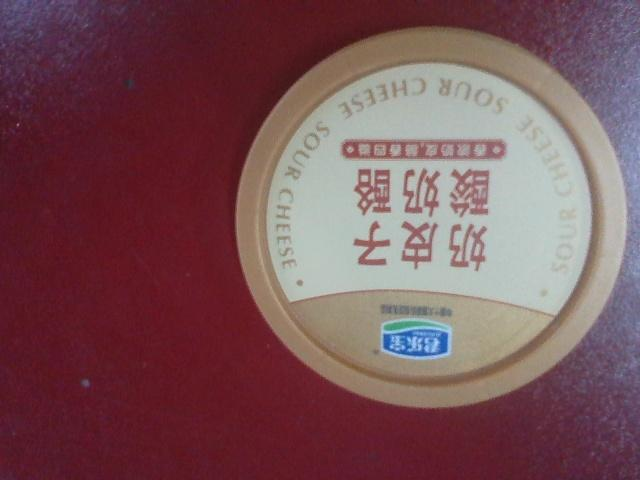lid: (217, 18, 632, 416)
